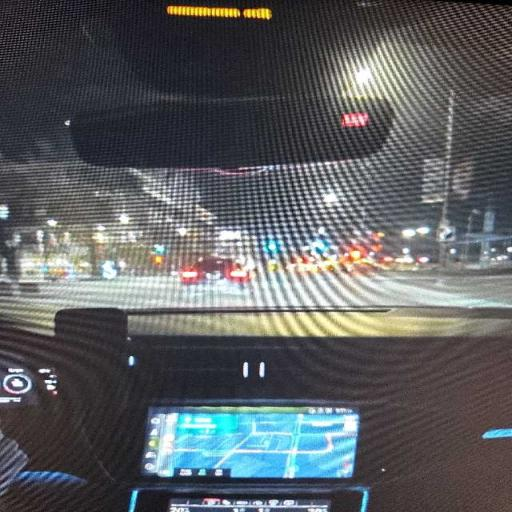car: (0, 0, 511, 511), (179, 257, 250, 283)
lane: (0, 273, 511, 327)
